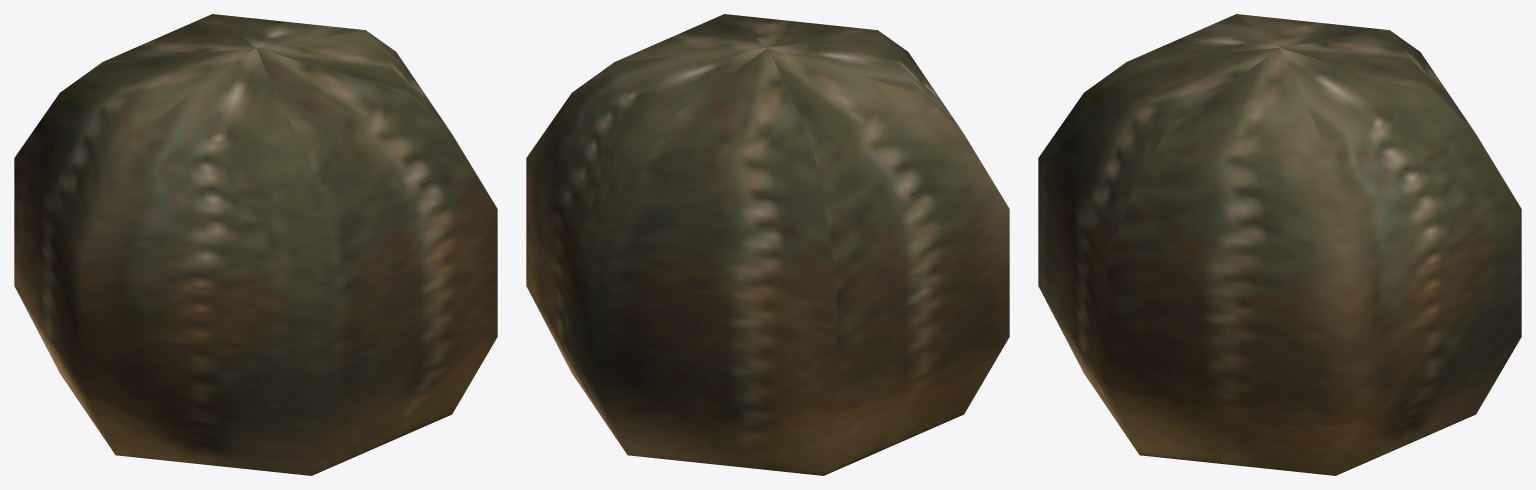
File: SC_tamalagebi_18.FBX
3 views of the same model, side by side, from view 1: azimuth 30°, elevation 25°; view 2: azimuth 150°, elevation 25°; view 3: azimuth 270°, elevation 25° (orthographic).
Visible parts, largest first — view 1: SC_tamalagebi_18; view 2: SC_tamalagebi_18; view 3: SC_tamalagebi_18.
Boxes of the visible parts, <box> form: SC_tamalagebi_18: <box>14,14,497,475</box>; SC_tamalagebi_18: <box>526,14,1009,475</box>; SC_tamalagebi_18: <box>1038,14,1521,475</box>.
Size of the model in its own units: 71.61 by 57.09 by 72.28.
